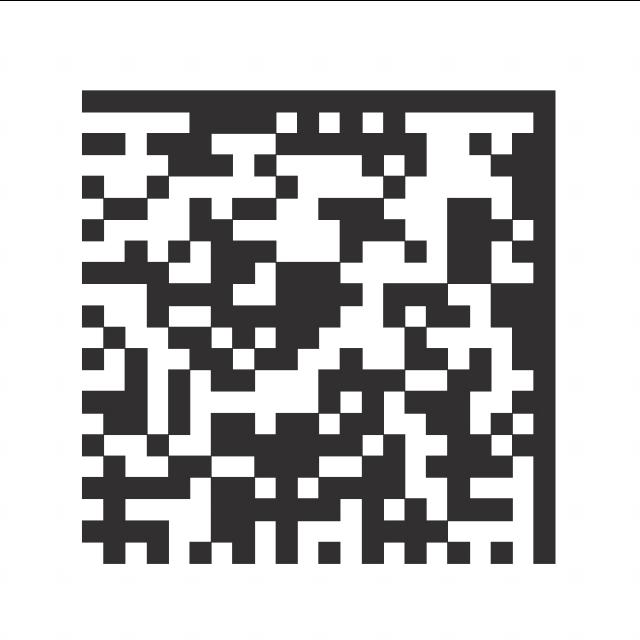DataMatrix: (69, 71, 563, 572)
